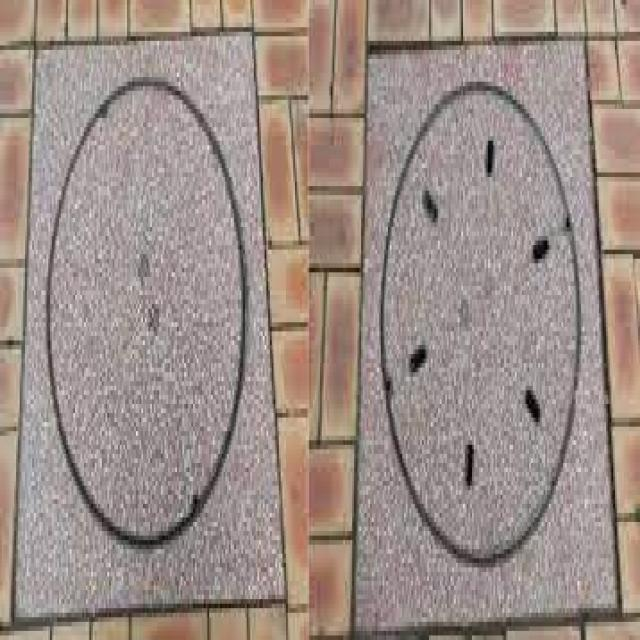manhole: (8, 30, 285, 625), (351, 39, 623, 635)
